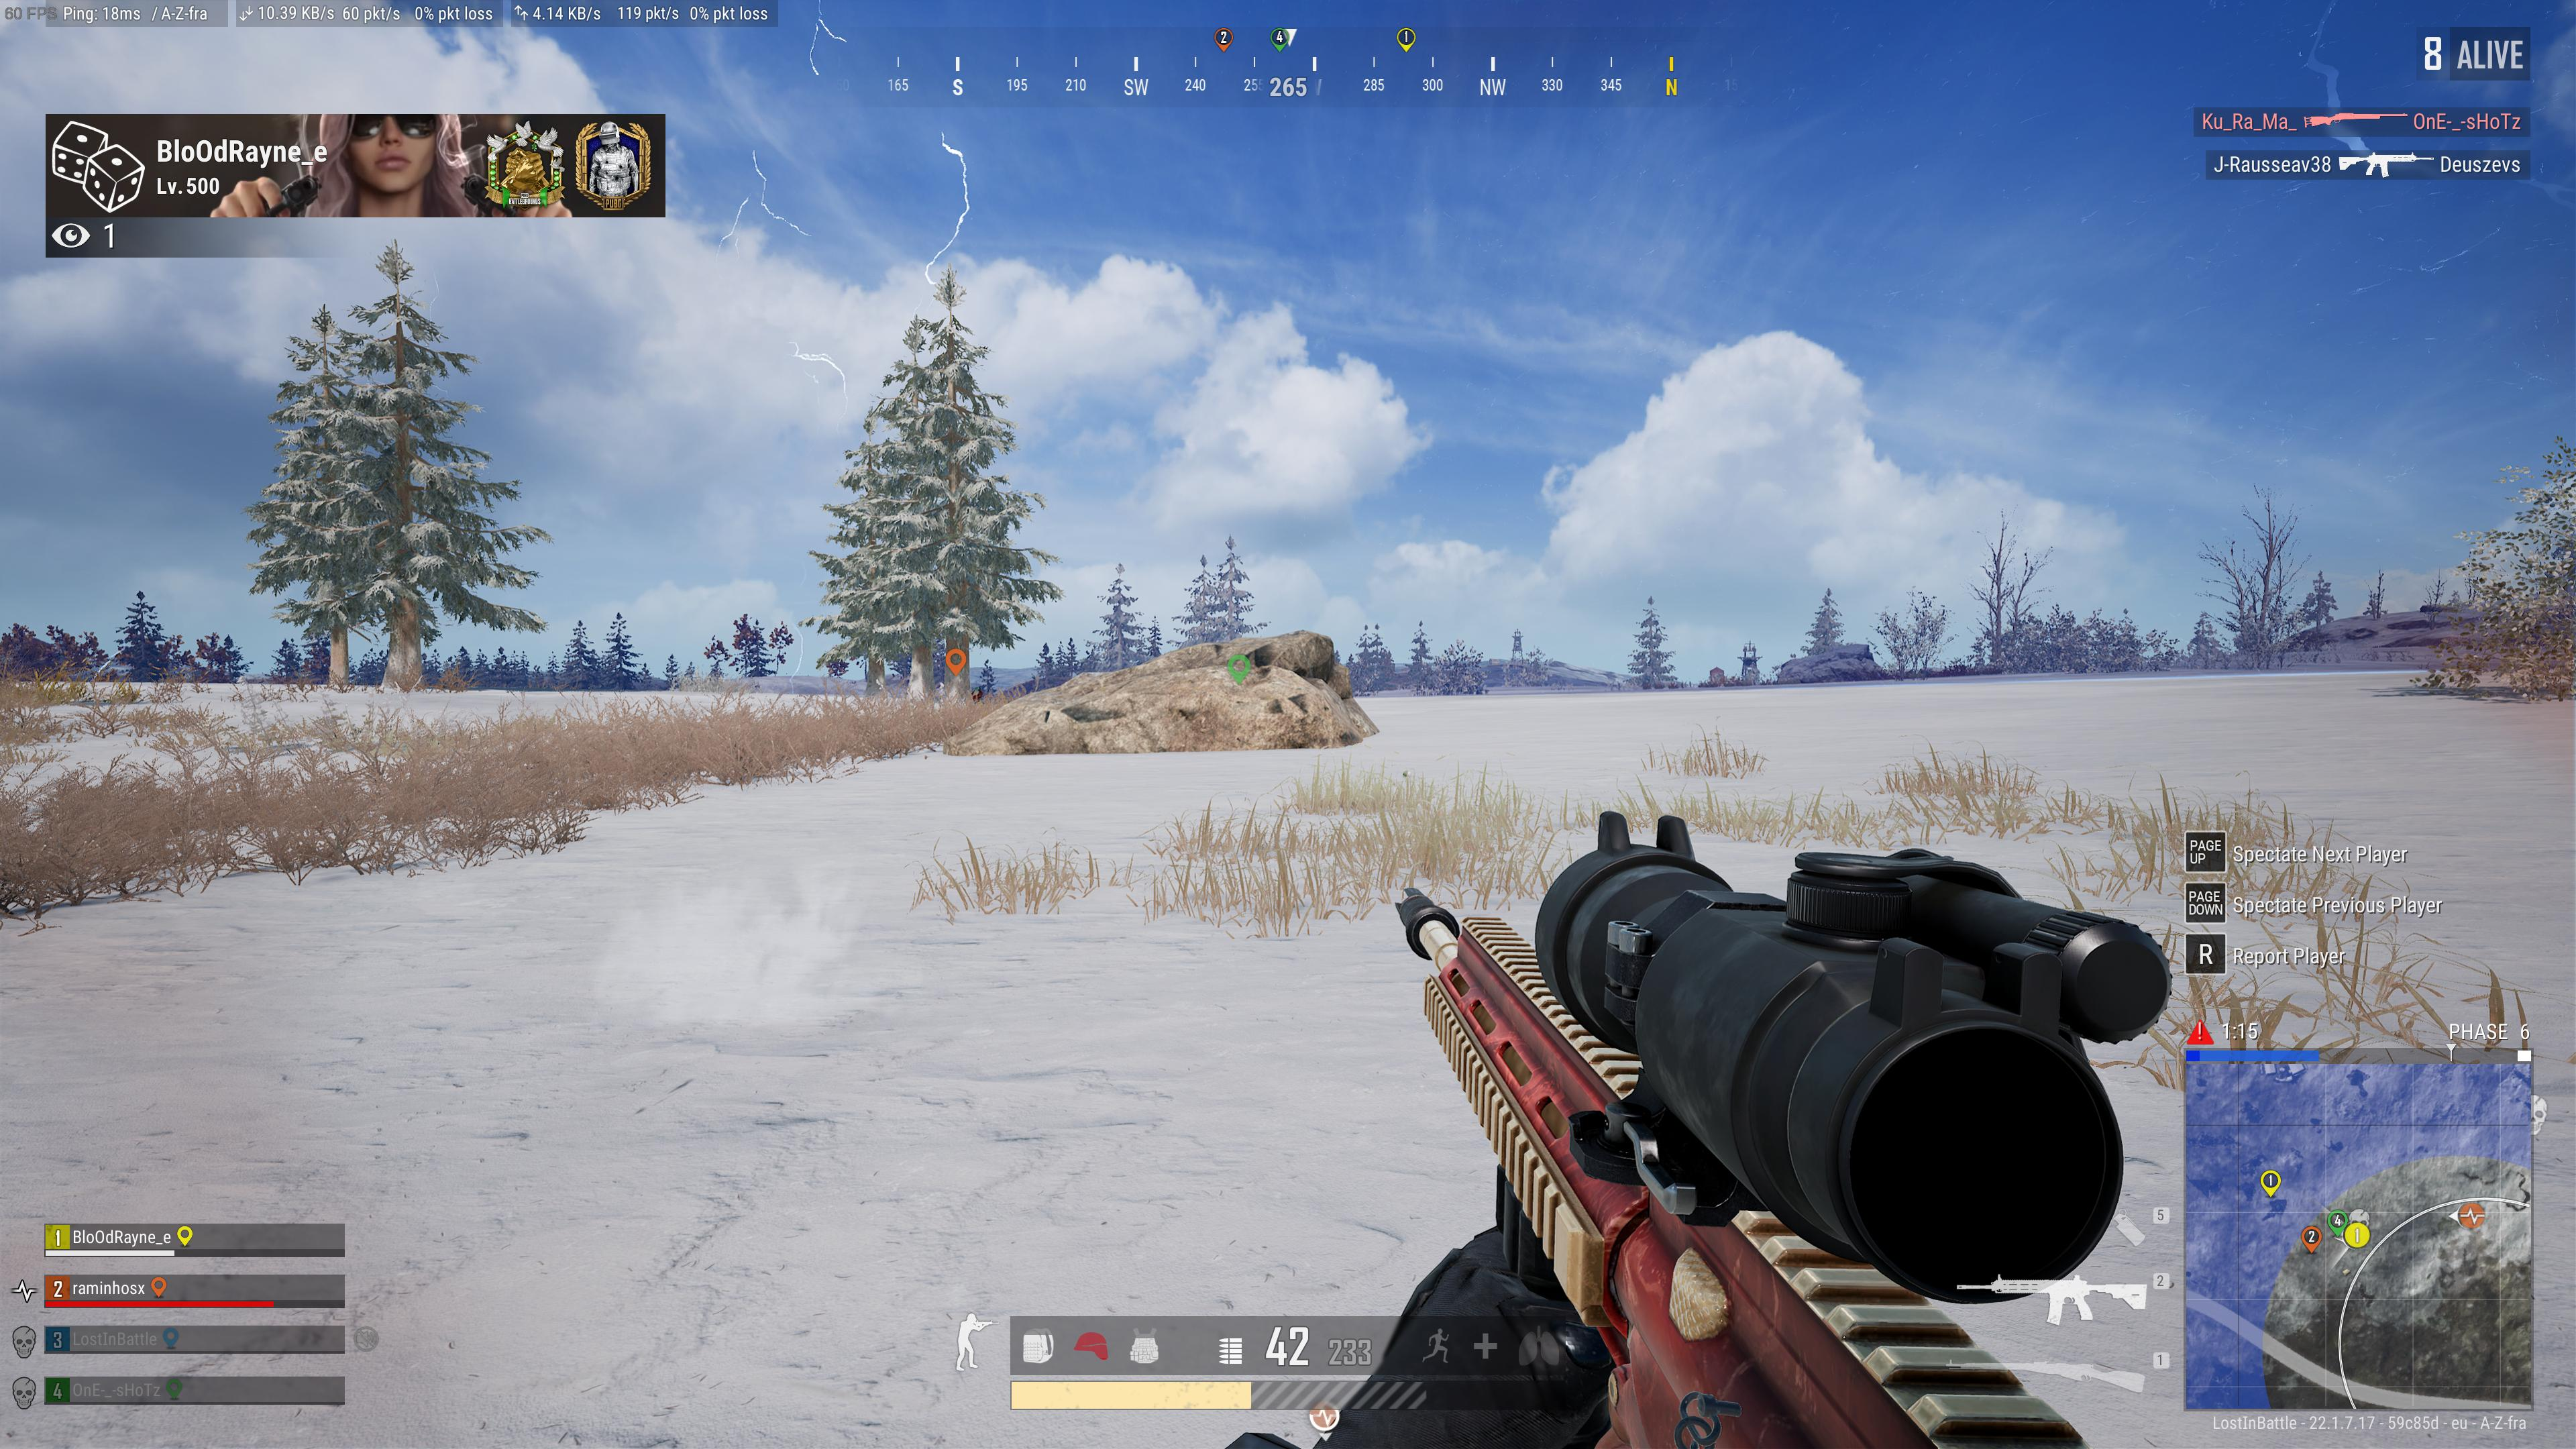enemy: (971, 686, 982, 704)
enemy_head: (973, 688, 978, 695)
